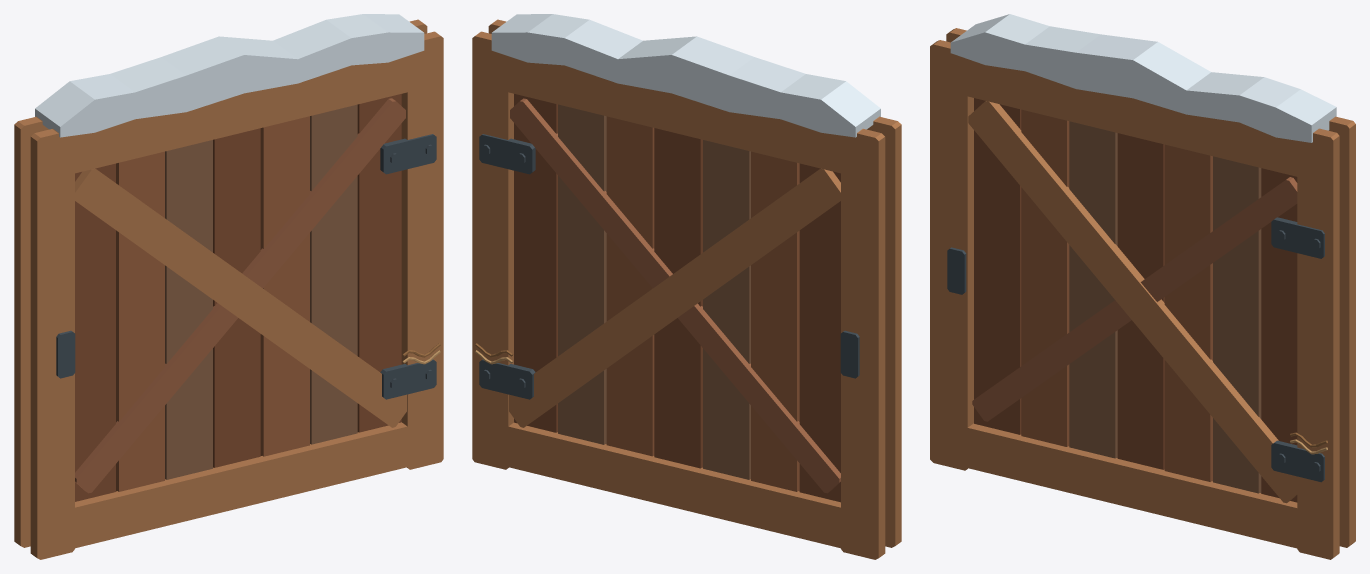
The model's file is GateLeaf_Right.obj.
The picture shows the model from 3 angles, left to right: view 1: azimuth 30°, elevation 25°; view 2: azimuth 150°, elevation 25°; view 3: azimuth 330°, elevation 25°; orthographic projection.
Parts seen in each view (by area): view 1: continuous_snow_crown, outward_tip_stile, outward_base_rail, outward_hinge_stile, outward_diagonal_brace_A, outward_top_rail, carved_board_4, carved_board_3, carved_board_6, outward_diagonal_brace_B, carved_board_5, carved_board_2 (+6 smaller); view 2: continuous_snow_crown, inward_tip_stile, inward_base_rail, inward_diagonal_brace_A, inward_hinge_stile, inward_top_rail, carved_board_4, carved_board_2, carved_board_6, carved_board_3, carved_board_5, inward_diagonal_brace_B (+6 smaller); view 3: continuous_snow_crown, outward_diagonal_brace_A, outward_tip_stile, outward_base_rail, outward_hinge_stile, outward_top_rail, carved_board_4, carved_board_7, carved_board_3, carved_board_6, carved_board_5, carved_board_2 (+6 smaller).
Part boxes in pixels (x1,y1,x2,y2): continuous_snow_crown: (35, 14, 424, 137); outward_tip_stile: (30, 129, 74, 559); outward_base_rail: (58, 422, 424, 551); outward_hinge_stile: (401, 31, 443, 469); outward_diagonal_brace_A: (75, 168, 406, 427); outward_top_rail: (52, 56, 407, 175); carved_board_4: (213, 128, 260, 467); carved_board_3: (260, 116, 309, 456); carved_board_6: (116, 151, 164, 491); outward_diagonal_brace_B: (75, 98, 405, 493); carved_board_5: (165, 140, 212, 479); carved_board_2: (310, 104, 357, 444); continuous_snow_crown: (491, 14, 880, 137); inward_tip_stile: (841, 129, 885, 559); inward_base_rail: (491, 422, 857, 551); inward_diagonal_brace_A: (509, 168, 840, 427); inward_hinge_stile: (472, 31, 513, 469); inward_top_rail: (491, 44, 863, 175); carved_board_4: (654, 128, 702, 468); carved_board_2: (558, 104, 606, 444); carved_board_6: (751, 151, 799, 491); carved_board_3: (606, 116, 654, 456); carved_board_5: (703, 140, 750, 479); inward_diagonal_brace_B: (510, 98, 840, 493); continuous_snow_crown: (950, 14, 1336, 142); outward_diagonal_brace_A: (968, 101, 1297, 503); outward_tip_stile: (930, 40, 973, 470); outward_base_rail: (950, 423, 1314, 551); outward_hinge_stile: (1297, 128, 1339, 559); outward_top_rail: (951, 55, 1314, 179); carved_board_4: (1117, 133, 1164, 469); carved_board_7: (974, 98, 1021, 434); carved_board_3: (1164, 144, 1212, 481); carved_board_6: (1021, 109, 1069, 446); carved_board_5: (1069, 121, 1117, 458); carved_board_2: (1213, 156, 1261, 493).
Bounding box in the file's own units: 1.17 × 1.26 × 0.138.
